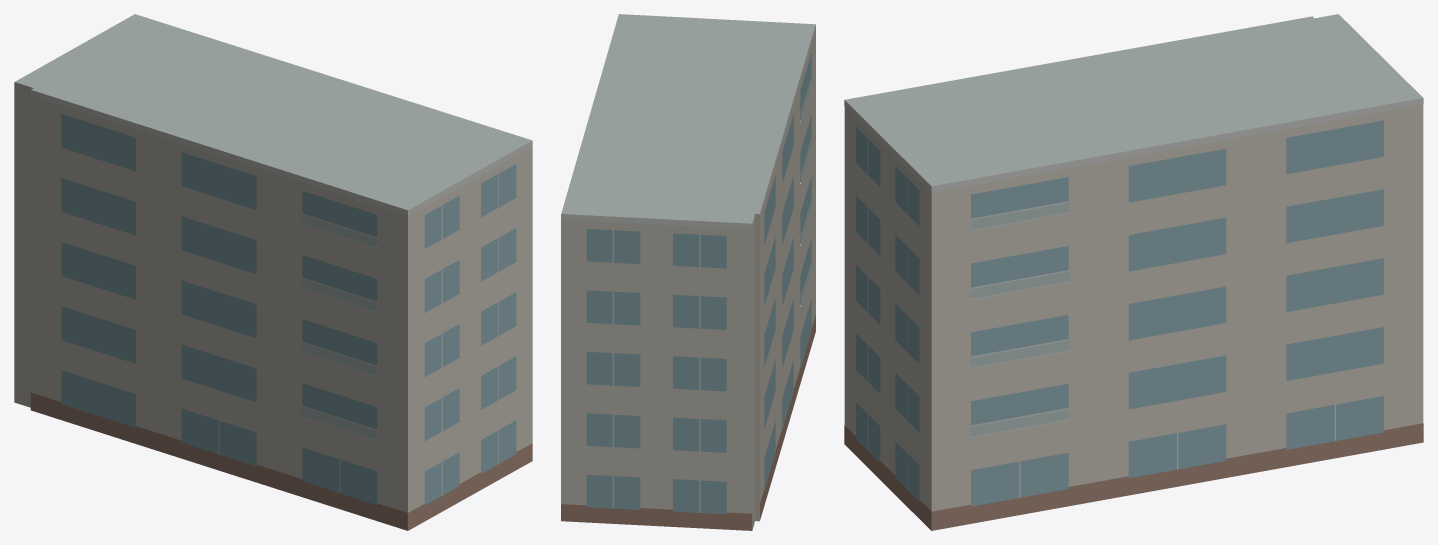
File: survey-upis-32892535.glb
3 views of the same model, side by side, from view 1: azimuth 30°, elevation 25°; view 2: azimuth 150°, elevation 25°; view 3: azimuth 270°, elevation 25° (orthographic). The views are drawn at different scales.
Visible parts, largest first — view 1: survey-upis-32892535.tmp; view 2: survey-upis-32892535.tmp; view 3: survey-upis-32892535.tmp.
Part boxes in pixels (box(x1,y1,x2,y2)): survey-upis-32892535.tmp: box(14, 14, 532, 530); survey-upis-32892535.tmp: box(561, 14, 815, 530); survey-upis-32892535.tmp: box(844, 14, 1423, 530).
Size of the model in its own units: 13.96 by 13 by 19.81.
